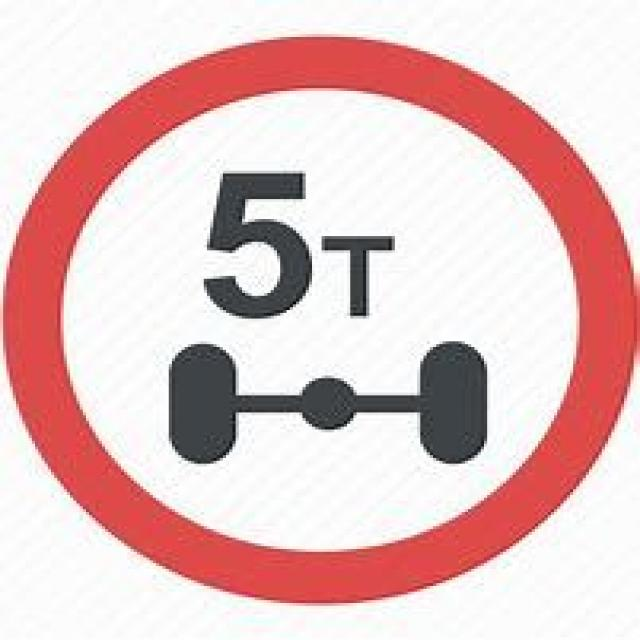AXLE_LOAD_LIMIT: (0, 28, 637, 603)
